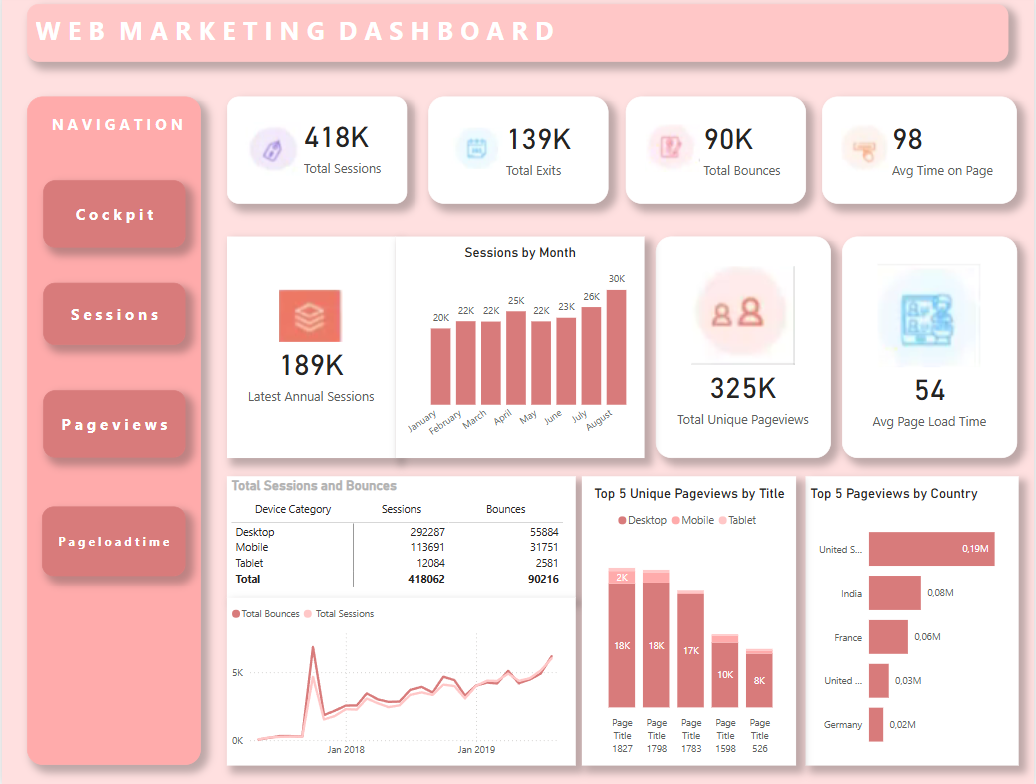

The page's visual inventory and layout, read from the dashboard file:
{"tool":"powerbi","page":{"name":"Page 1","canvas":[1300,1000],"ordinal":0},"visuals":[{"type":"textbox","box":[31.5,12.6,1236.6,72.5],"z":0},{"type":"shape","box":[31.5,129.2,219,842.8],"z":1000},{"type":"actionButton","box":[52,234.7,179.6,85.1],"z":2000},{"type":"actionButton","box":[52,363.9,179.6,78.8],"z":3000},{"type":"actionButton","box":[52,499.4,179.6,85.1],"z":4000},{"type":"actionButton","box":[50.4,645.9,181.2,88.2],"z":5000},{"type":"textbox","box":[50.4,146.5,189,50.4],"z":6000},{"type":"cardVisual","fields":{"Data":["Sum(Web Marketing_Migrated Data.Sessions)"]},"box":[283.6,129.2,226.8,135.5],"z":7001},{"type":"cardVisual","fields":{"Data":["Sum(Web Marketing_Migrated Data.Exits)"]},"box":[537.2,129.2,226.8,135.5],"z":7002},{"type":"cardVisual","fields":{"Data":["Sum(Web Marketing_Migrated Data.Bounces)"]},"box":[786.1,129.2,226.8,135.5],"z":7003},{"type":"cardVisual","fields":{"Data":["Avg(Web Marketing_Migrated Data.Time on Page)"]},"box":[1033.4,129.2,245.7,135.5],"z":7004},{"type":"cardVisual","fields":{"Data":["Sum(Web Marketing_Migrated Data.Sessions)"]},"box":[283.6,305.6,212.7,278.8],"z":7005},{"type":"cardVisual","fields":{"Data":["Sum(Web Marketing_Migrated Data.Unique Pageviews)"]},"box":[823.9,305.6,220.5,278.8],"z":7006},{"type":"cardVisual","fields":{"Data":["Avg(Web Marketing_Migrated Data.Page Load Time)"]},"box":[1058.6,305.6,220.5,278.8],"z":7007},{"type":"columnChart","fields":{"Category":["Web Marketing_Migrated Data.Date.Variation.Date Hierarchy.Month"],"Y":["Sum(Web Marketing_Migrated Data.Sessions)"]},"box":[496.2,305.6,313.5,278.8],"z":7008},{"type":"pivotTable","title":"Total Sessions and Bounces","fields":{"Rows":["Web Marketing_Migrated Data.Device Category"],"Values":["Sum(Web Marketing_Migrated Data.Sessions)","Sum(Web Marketing_Migrated Data.Bounces)"]},"box":[283.6,608.1,439.5,152.8],"z":7009},{"type":"lineChart","fields":{"Category":["Web Marketing_Migrated Data.Date.Variation.Date Hierarchy.Year","Web Marketing_Migrated Data.Date.Variation.Date Hierarchy.Month"],"Y":["Sum(Web Marketing_Migrated Data.Bounces)"],"Y2":["Sum(Web Marketing_Migrated Data.Sessions)"]},"box":[283.6,760.9,439.5,211.1],"z":7010},{"type":"barChart","title":"Top 5 Pageviews by Country","fields":{"Y":["Sum(Web Marketing_Migrated Data.Unique Pageviews)"],"Category":["Web Marketing_Migrated Data.Country"]},"box":[1012.9,608.1,267.8,363.9],"z":7012},{"type":"columnChart","title":"Top 5 Unique Pageviews by Title ","fields":{"Category":["Web Marketing_Migrated Data.Page Title"],"Y":["Sum(Web Marketing_Migrated Data.Unique Pageviews)"],"Series":["Web Marketing_Migrated Data.Device Category"]},"box":[730.9,608.1,269.4,363.9],"z":7013}]}

Visuals, with their boxes in screenshot pixels (x1, y1, x2, y2), scaled from the page's 1300x1000 canvas onto the 1036x784 screenshot:
textbox: (x1=25, y1=10, x2=1011, y2=67)
shape: (x1=25, y1=101, x2=200, y2=762)
actionButton: (x1=41, y1=184, x2=185, y2=251)
actionButton: (x1=41, y1=285, x2=185, y2=347)
actionButton: (x1=41, y1=392, x2=185, y2=458)
actionButton: (x1=40, y1=506, x2=185, y2=576)
textbox: (x1=40, y1=115, x2=191, y2=154)
cardVisual - Sum(Web Marketing_Migrated Data.Sessions): (x1=226, y1=101, x2=407, y2=208)
cardVisual - Sum(Web Marketing_Migrated Data.Exits): (x1=428, y1=101, x2=609, y2=208)
cardVisual - Sum(Web Marketing_Migrated Data.Bounces): (x1=626, y1=101, x2=807, y2=208)
cardVisual - Avg(Web Marketing_Migrated Data.Time on Page): (x1=824, y1=101, x2=1019, y2=208)
cardVisual - Sum(Web Marketing_Migrated Data.Sessions): (x1=226, y1=240, x2=396, y2=458)
cardVisual - Sum(Web Marketing_Migrated Data.Unique Pageviews): (x1=657, y1=240, x2=832, y2=458)
cardVisual - Avg(Web Marketing_Migrated Data.Page Load Time): (x1=844, y1=240, x2=1019, y2=458)
columnChart - Web Marketing_Migrated Data.Date.Variation.Date Hierarchy.Month x Sum(Web Marketing_Migrated Data.Sessions): (x1=395, y1=240, x2=645, y2=458)
"Total Sessions and Bounces" pivotTable: (x1=226, y1=477, x2=576, y2=597)
lineChart - Web Marketing_Migrated Data.Date.Variation.Date Hierarchy.Year x Web Marketing_Migrated Data.Date.Variation.Date Hierarchy.Month: (x1=226, y1=597, x2=576, y2=762)
"Top 5 Pageviews by Country" barChart: (x1=807, y1=477, x2=1021, y2=762)
"Top 5 Unique Pageviews by Title " columnChart: (x1=582, y1=477, x2=797, y2=762)
